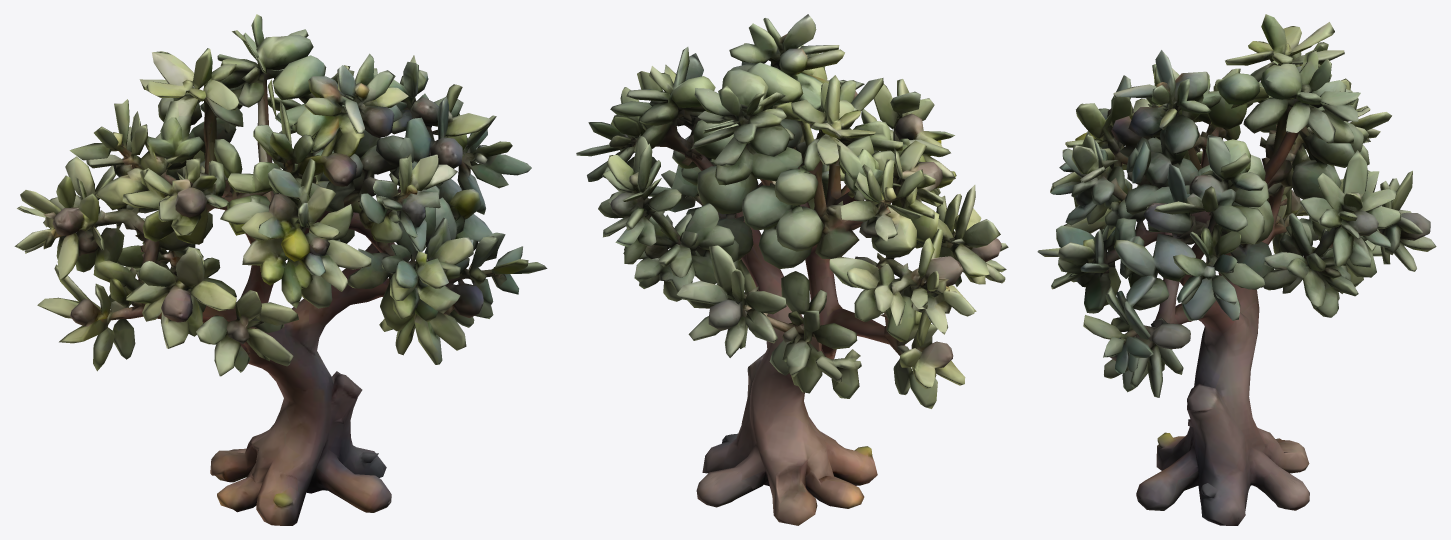
File: olive.glb
The picture shows the model from 3 angles, left to right: view 1: azimuth 30°, elevation 25°; view 2: azimuth 150°, elevation 25°; view 3: azimuth 270°, elevation 25°; orthographic projection.
Parts seen in each view (by area): view 1: tripo_node_e76dacef-ef4b-44cd-bc6b-4eee8d0b7fe0; view 2: tripo_node_e76dacef-ef4b-44cd-bc6b-4eee8d0b7fe0; view 3: tripo_node_e76dacef-ef4b-44cd-bc6b-4eee8d0b7fe0.
Part boxes in pixels (x1,y1,x2,y2): tripo_node_e76dacef-ef4b-44cd-bc6b-4eee8d0b7fe0: [14, 14, 547, 525]; tripo_node_e76dacef-ef4b-44cd-bc6b-4eee8d0b7fe0: [576, 14, 1008, 525]; tripo_node_e76dacef-ef4b-44cd-bc6b-4eee8d0b7fe0: [1037, 14, 1436, 525].
Bounding box in the file's own units: 1 × 0.9605 × 0.7817.
Materials: 1 (1 with a texture image).
